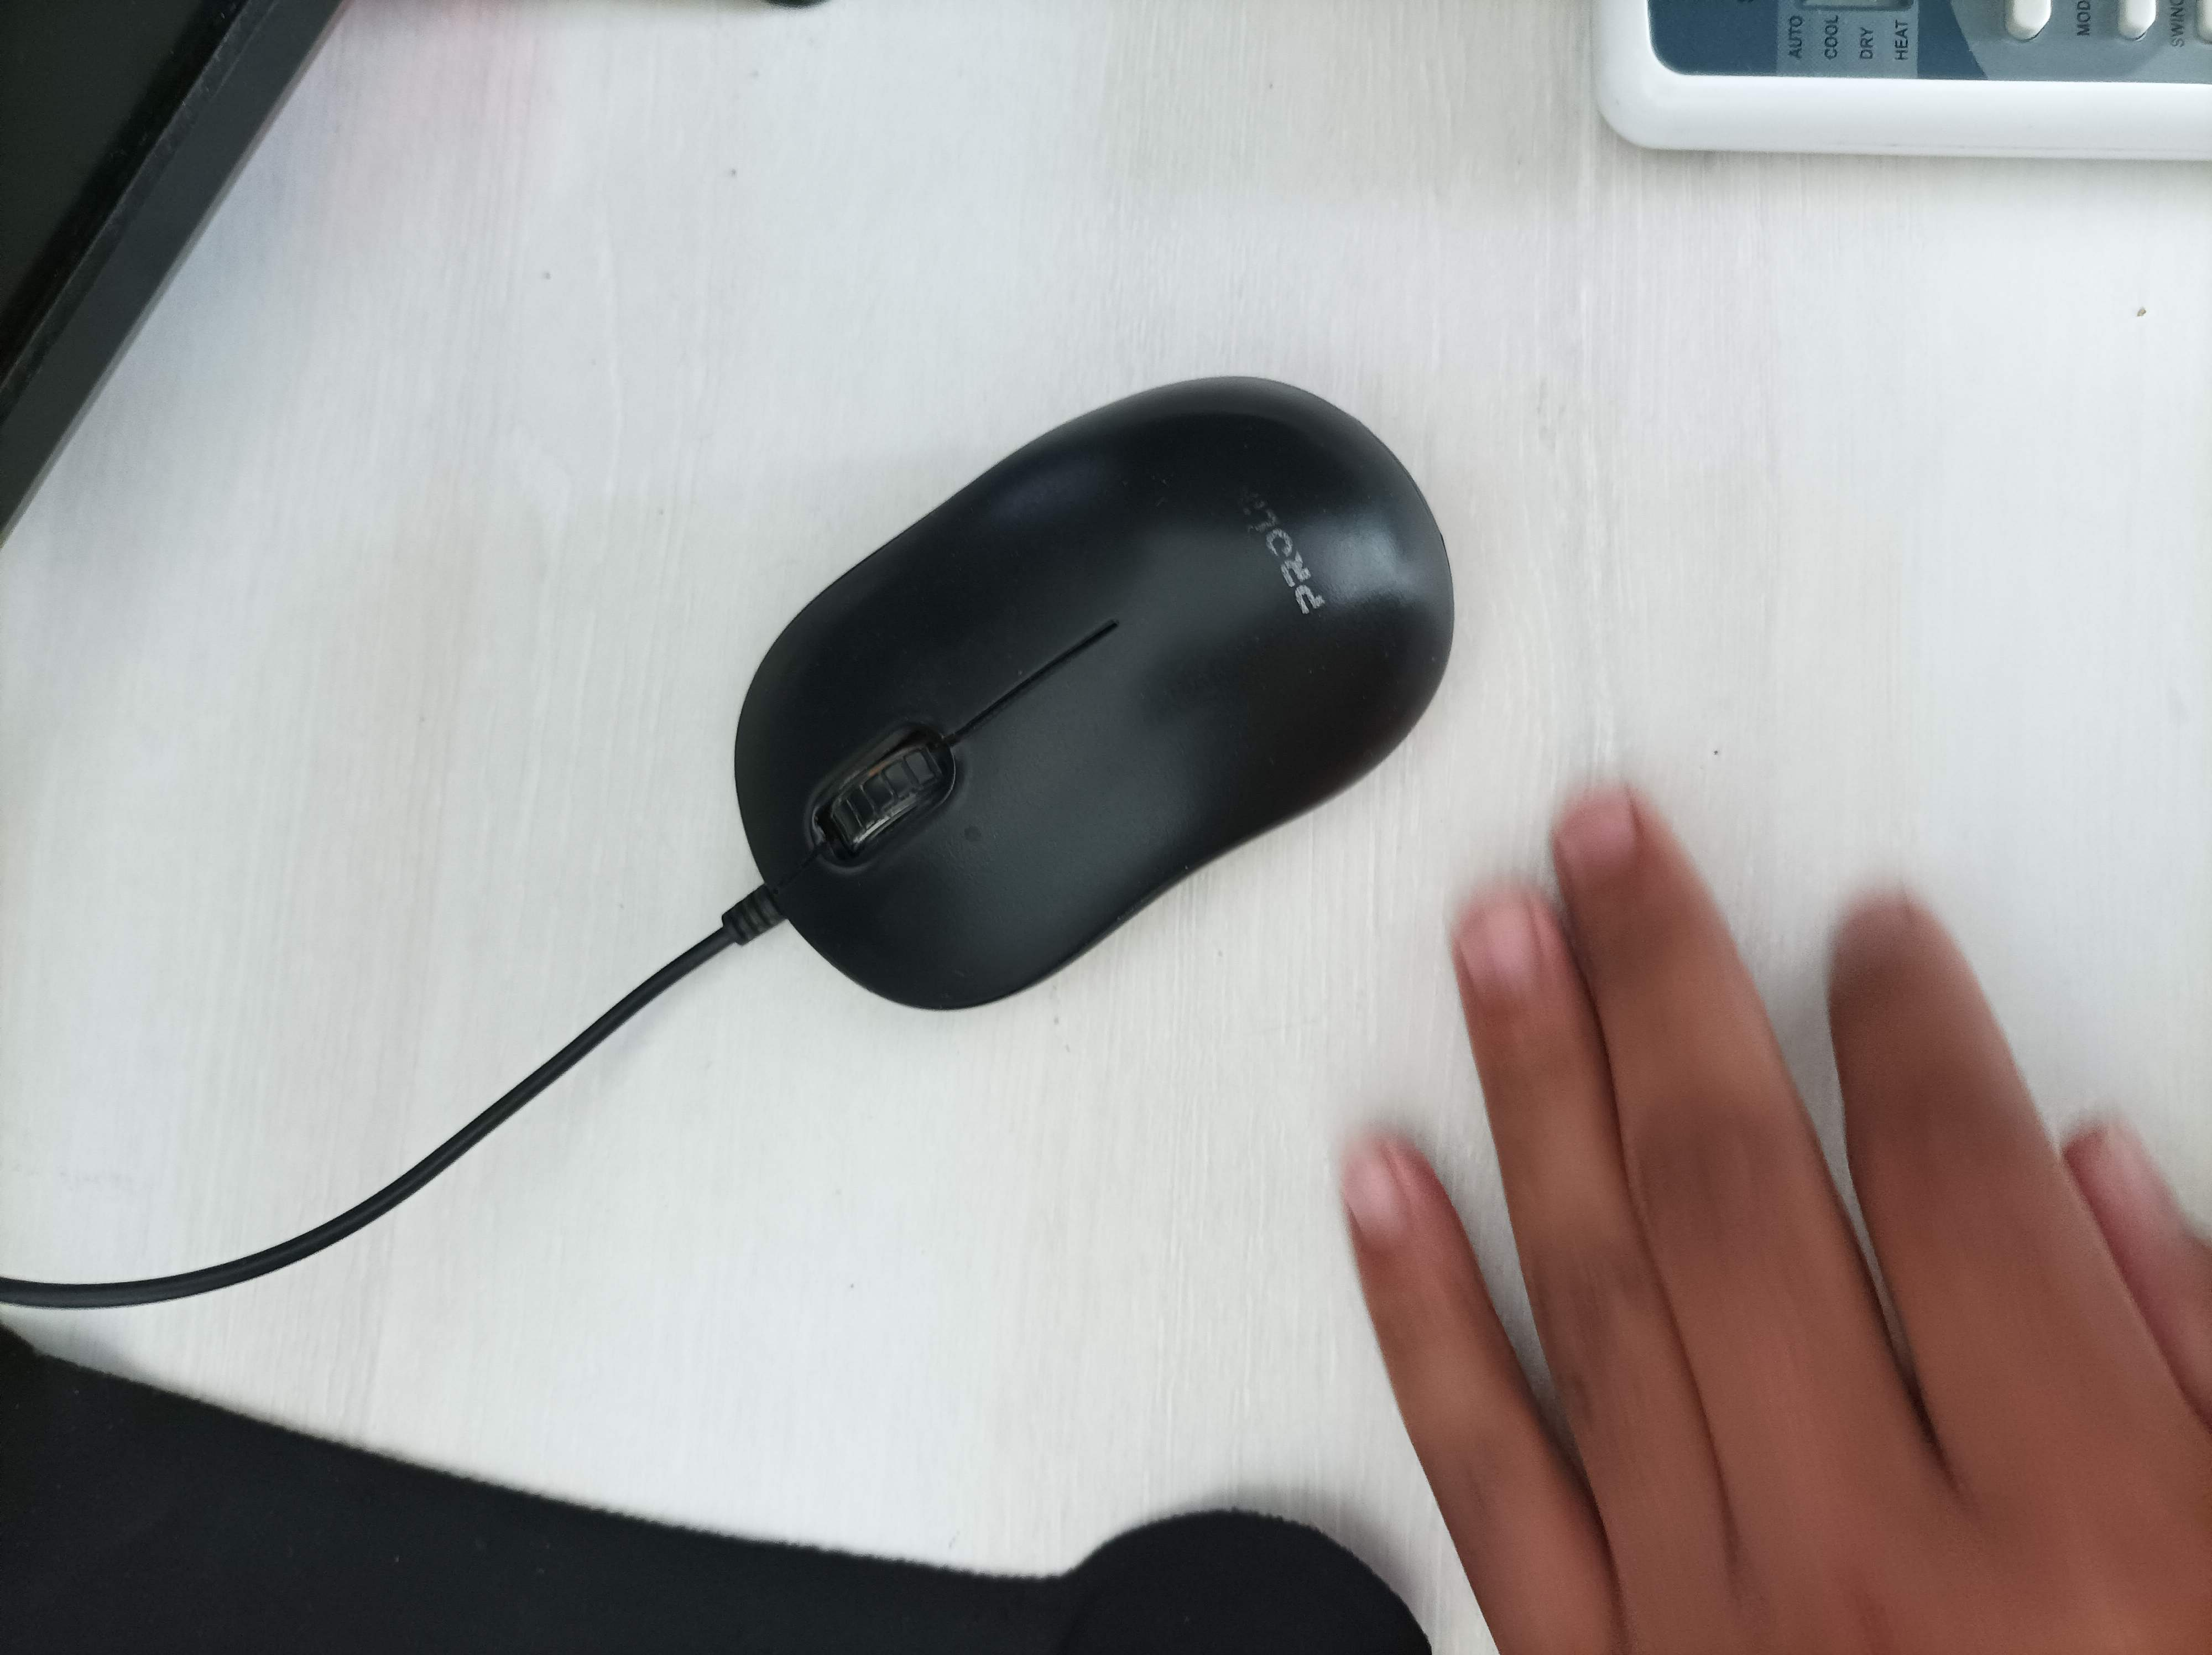mouse: (714, 362, 1470, 1020)
